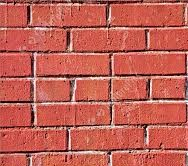brick: (108, 3, 186, 27), (34, 53, 111, 76), (30, 3, 106, 26), (70, 28, 146, 51), (34, 104, 110, 127), (111, 53, 188, 74), (69, 128, 146, 149), (1, 27, 68, 51), (113, 104, 187, 124), (1, 129, 67, 151), (145, 126, 188, 150), (110, 153, 188, 165), (147, 28, 188, 50), (31, 154, 109, 165), (34, 78, 71, 101), (111, 78, 149, 100), (152, 78, 187, 100), (1, 52, 33, 76), (74, 79, 110, 100), (1, 78, 32, 101), (1, 103, 32, 126), (1, 4, 29, 27), (1, 153, 30, 165)
